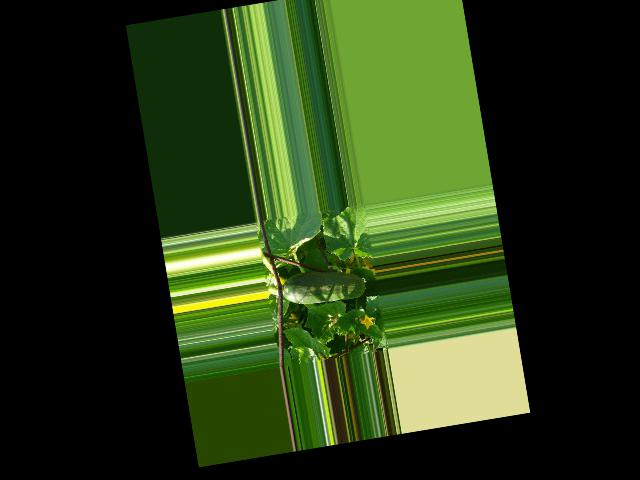cucumber: (280, 261, 367, 309)
